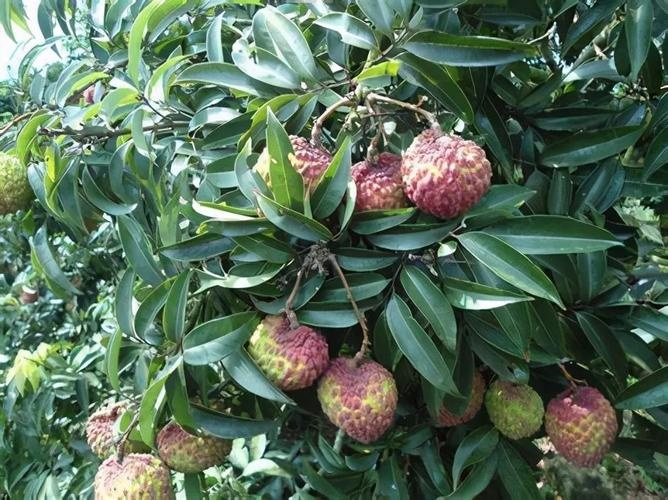Frost_Blight: (283, 103, 450, 214), (65, 388, 207, 492), (505, 351, 621, 473), (312, 349, 381, 425), (255, 318, 298, 381)
